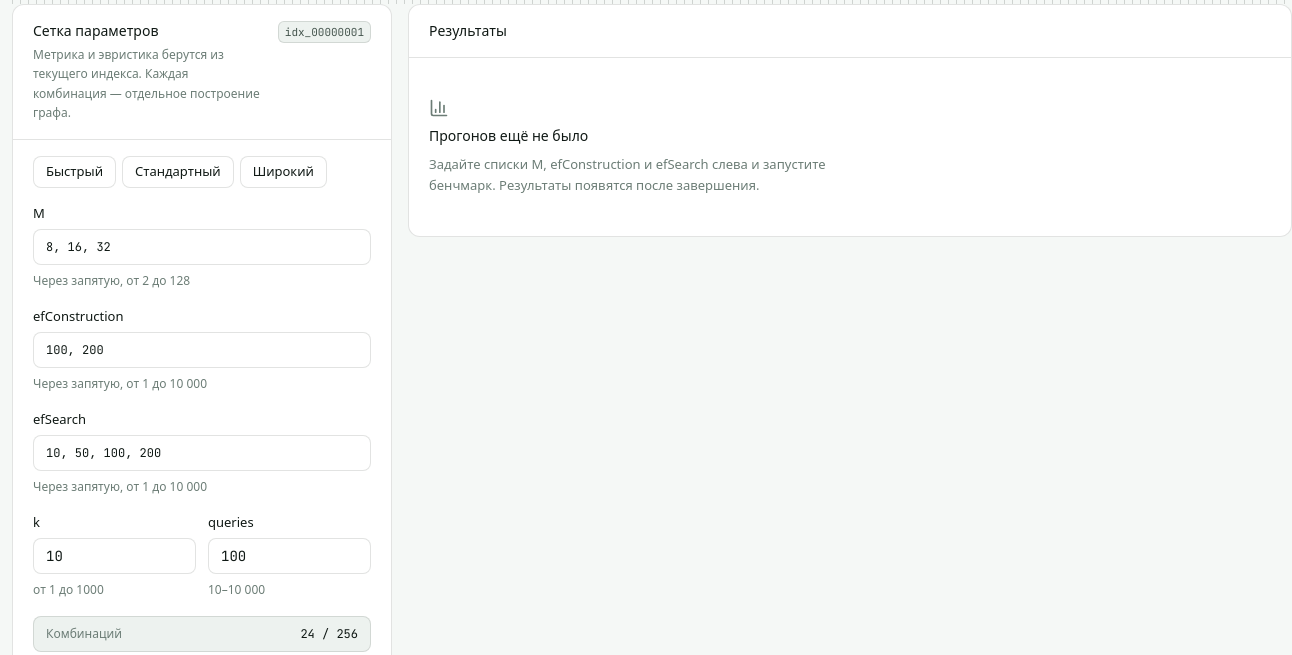
Test case: BenchmarkPage › validates the grid against backend limits
This screenshot has width=1292, height=655.
Replace the text in the field labelled "M" with "1" at (202, 247), box top-left (33, 229), bottom-right (371, 265)
(page scrolled)
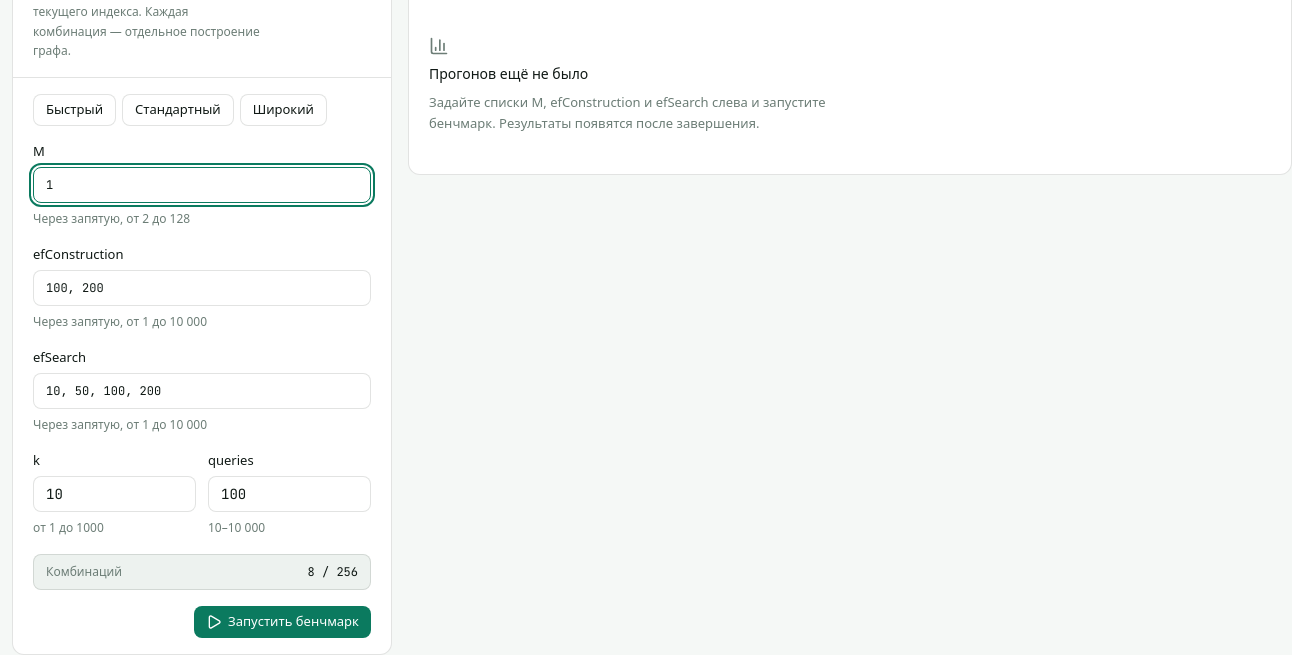
Click the button "Запустить бенчмарк".
click(282, 622)  # box top-left (194, 606), bottom-right (371, 638)
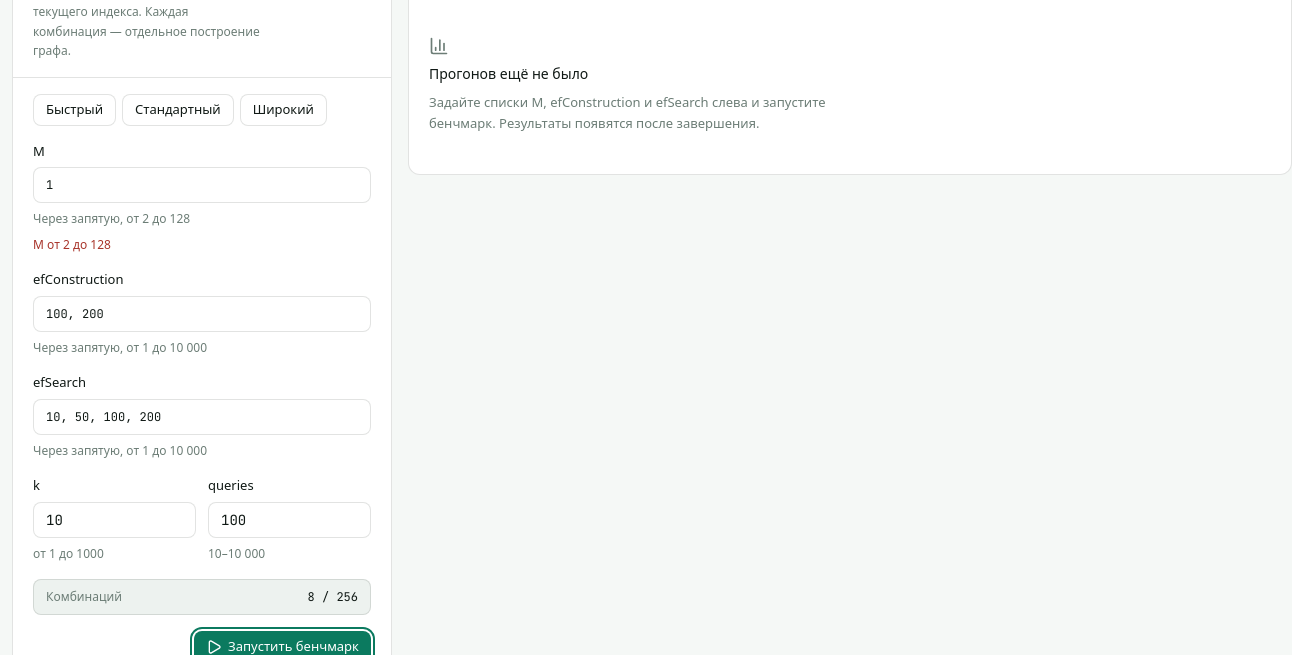
Check: the text "M от 2 до 128" is shown, box top-left (33, 236), bottom-right (111, 253)
